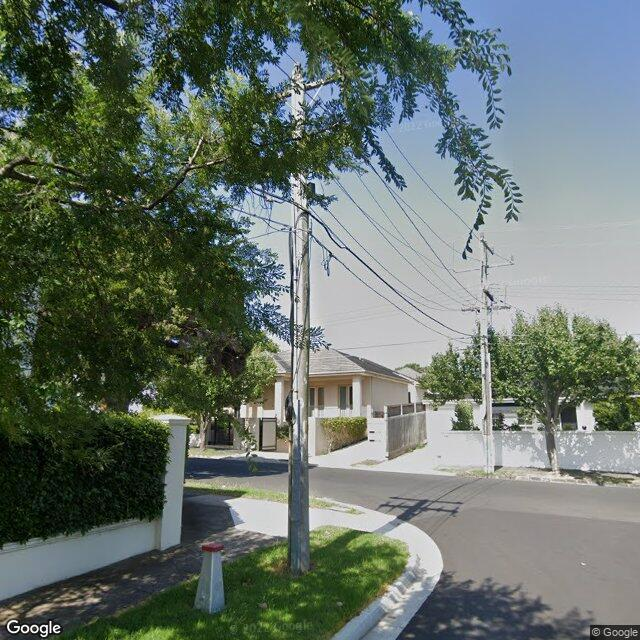HV-transmission: (452, 232, 514, 272)
crossarm: (264, 72, 346, 103), (454, 262, 515, 274), (461, 306, 510, 312), (480, 239, 493, 254), (482, 289, 494, 301)
timber-pole: (288, 68, 310, 576), (480, 239, 494, 473)
